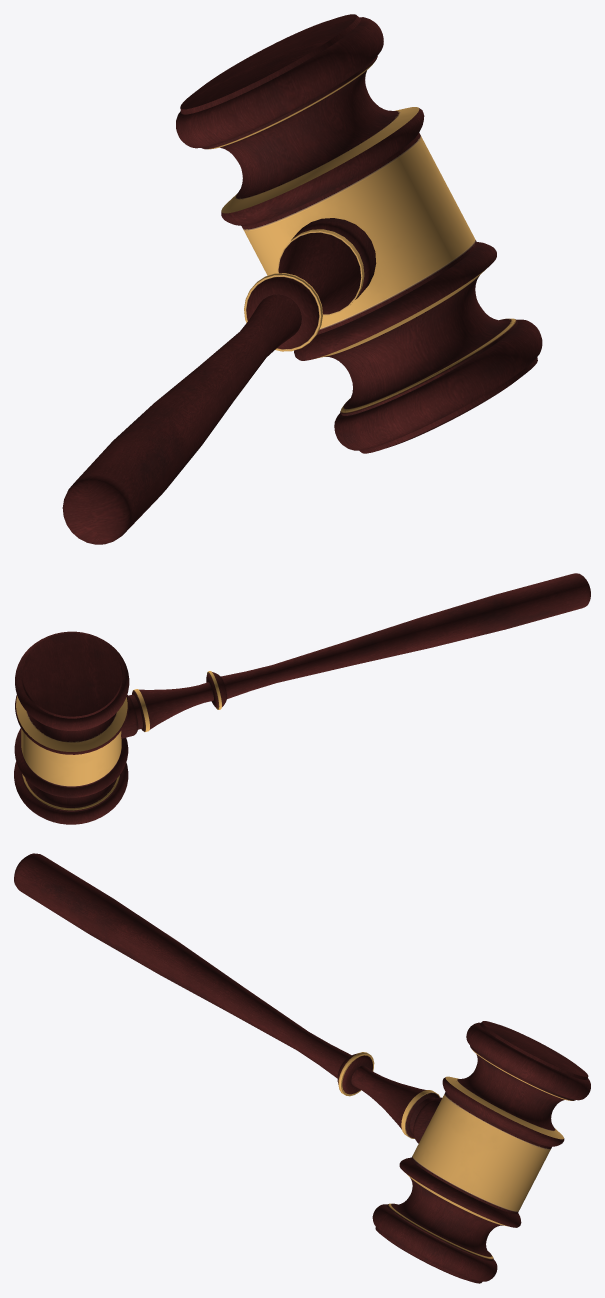
Rendered from judges_gavel.obj.
3 views of the same model, one above another, from view 1: azimuth 30°, elevation 25°; view 2: azimuth 150°, elevation 25°; view 3: azimuth 270°, elevation 25° (orthographic). The views are drawn at different scales.
Visible parts, largest first — view 1: dynamic; view 2: dynamic; view 3: dynamic.
Boxes of the visible parts, <box> form: dynamic: <box>62,14,542,544</box>; dynamic: <box>14,573,590,824</box>; dynamic: <box>14,853,590,1283</box>.
Bounding box in the file's own units: 3.73 × 1.77 × 3.89.
1 material, 1 textured.
